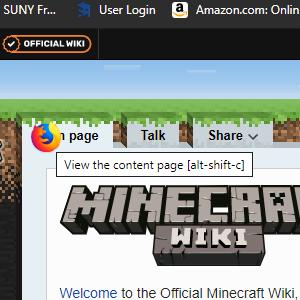firefox: (31, 121, 61, 152)
